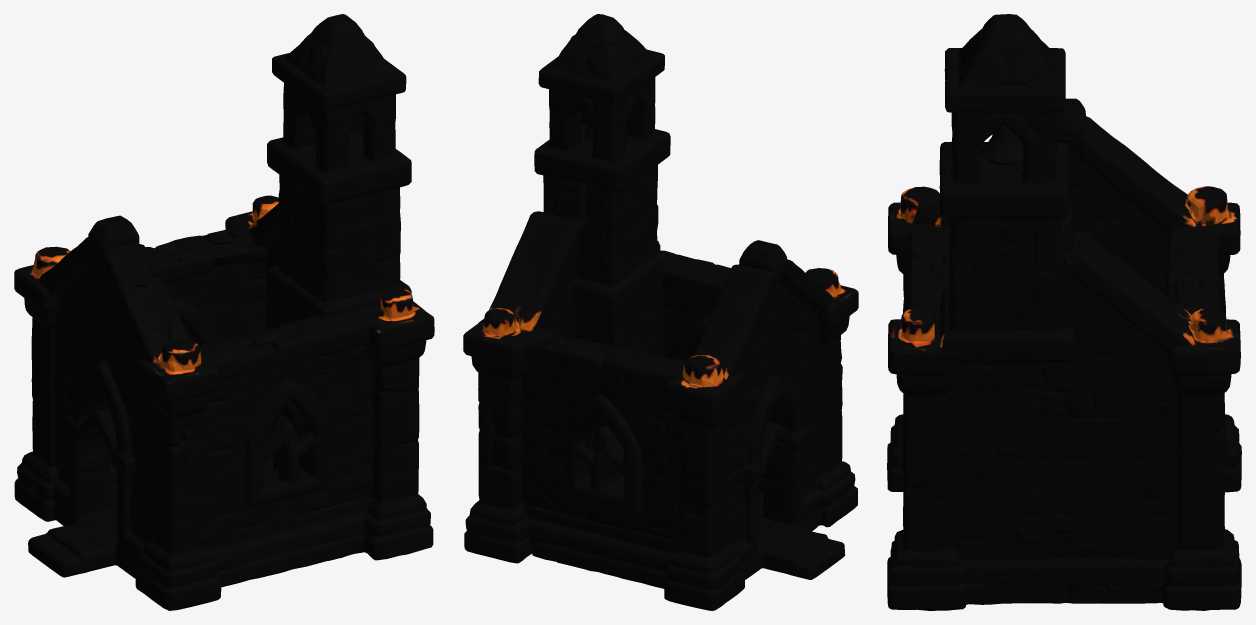
Rendered from chapel_hy.glb.
3 renders of one model, left to right at view 1: azimuth 30°, elevation 25°; view 2: azimuth 150°, elevation 25°; view 3: azimuth 270°, elevation 25°, orthographic. The views are drawn at different scales.
Visible parts, largest first — view 1: textured_mesh.obj; view 2: textured_mesh.obj; view 3: textured_mesh.obj.
Part boxes in pixels (box(x1,y1,x2,y2)): textured_mesh.obj: box(14, 14, 434, 610); textured_mesh.obj: box(463, 14, 858, 610); textured_mesh.obj: box(887, 14, 1241, 610).
Size of the model in its own units: 1.31 by 1.99 by 1.13.
Materials: 1 (1 with a texture image).
